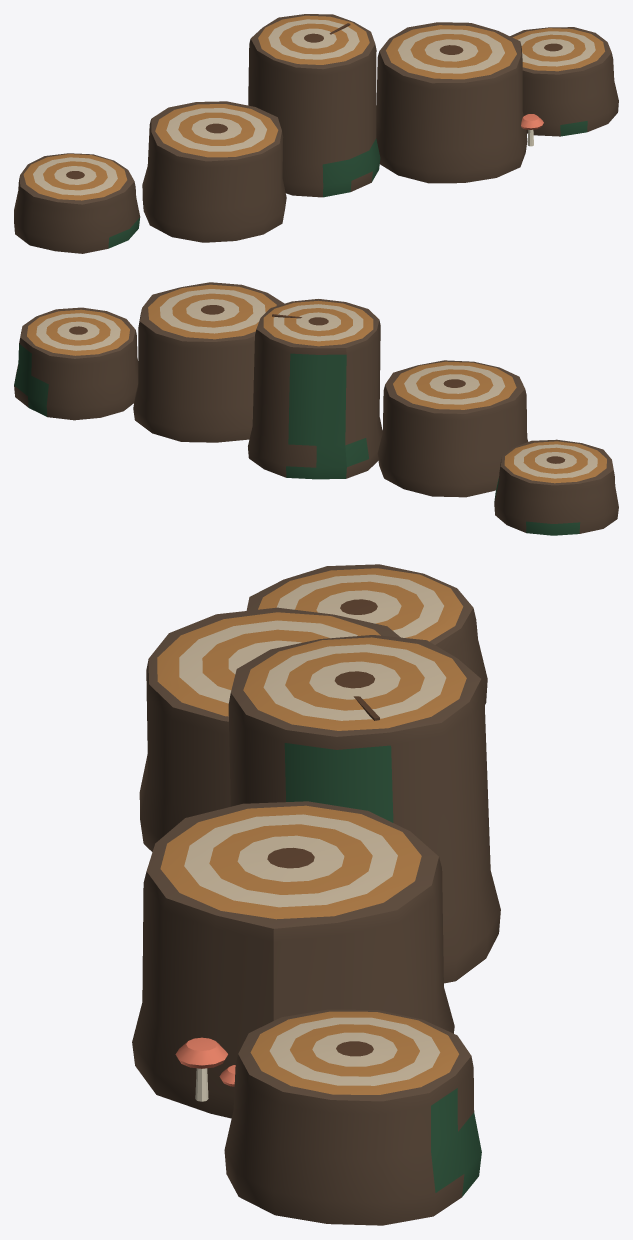
File: deco_stepping_logs.fbx
3 renders of one model, top to bottom at view 1: azimuth 30°, elevation 25°; view 2: azimuth 150°, elevation 25°; view 3: azimuth 270°, elevation 25°, orthographic. The views are drawn at different scales.
Parts seen in each view (by area): view 1: SteppingLogs_Log4, SteppingLogs_Log3, SteppingLogs_Log2, SteppingLogs_Log1, SteppingLogs_Log5; view 2: SteppingLogs_Log3, SteppingLogs_Log4, SteppingLogs_Log2, SteppingLogs_Log5, SteppingLogs_Log1; view 3: SteppingLogs_Log4, SteppingLogs_Log3, SteppingLogs_Log5, SteppingLogs_Log2, SteppingLogs_Log1.
Part boxes in pixels (<box>): SteppingLogs_Log4: <box>376,22,543,183</box>; SteppingLogs_Log3: <box>248,14,380,197</box>; SteppingLogs_Log2: <box>142,101,286,242</box>; SteppingLogs_Log1: <box>14,153,140,253</box>; SteppingLogs_Log5: <box>510,27,618,136</box>; SteppingLogs_Log3: <box>248,299,382,479</box>; SteppingLogs_Log4: <box>133,282,284,442</box>; SteppingLogs_Log2: <box>377,360,528,497</box>; SteppingLogs_Log5: <box>14,307,138,420</box>; SteppingLogs_Log1: <box>494,439,618,535</box>; SteppingLogs_Log4: <box>132,801,454,1118</box>; SteppingLogs_Log3: <box>228,635,500,983</box>; SteppingLogs_Log5: <box>224,1009,481,1225</box>; SteppingLogs_Log2: <box>139,607,400,851</box>; SteppingLogs_Log1: <box>246,564,487,704</box>.
Size of the model in its own units: 308 by 66.92 by 83.95.
